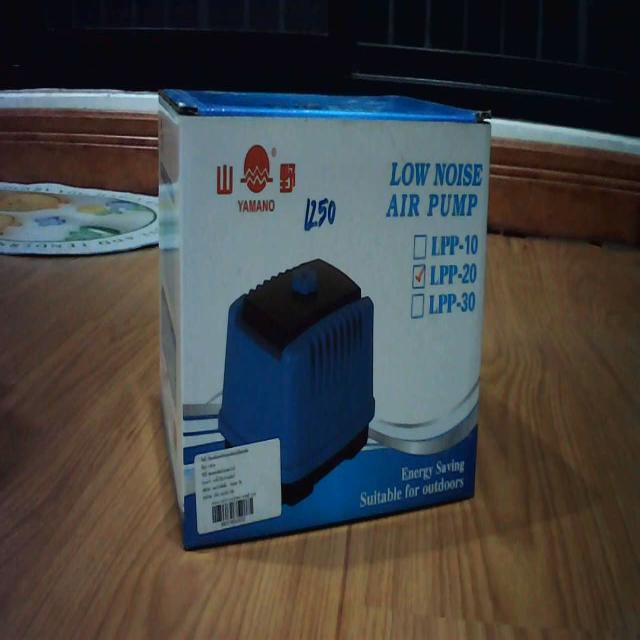YAMANO_LPP_20: (145, 65, 507, 581)
